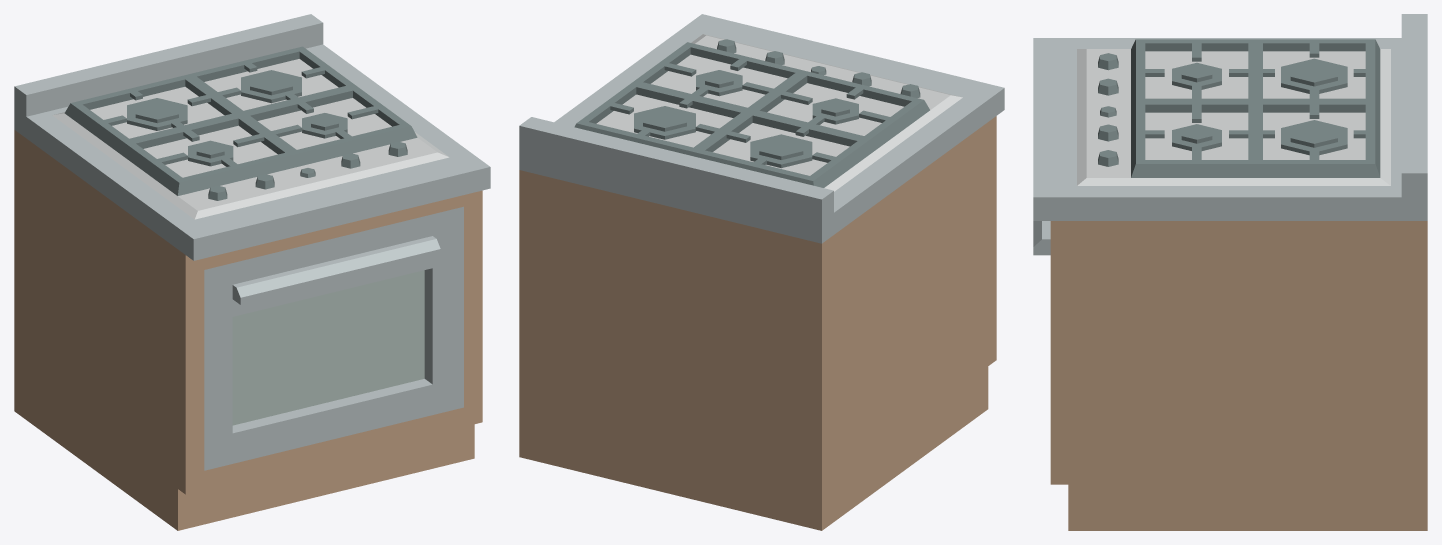
Rendered from kitchenStove.glb.
The picture shows the model from 3 angles, left to right: view 1: azimuth 30°, elevation 25°; view 2: azimuth 150°, elevation 25°; view 3: azimuth 270°, elevation 25°; orthographic projection. The views are drawn at different scales.
Visible parts, largest first — view 1: kitchenStove(Clone), door; view 2: kitchenStove(Clone); view 3: kitchenStove(Clone).
Part boxes in pixels (box(x1,y1,x2,y2)): kitchenStove(Clone): box(14, 14, 490, 530); door: box(232, 270, 424, 425); kitchenStove(Clone): box(519, 14, 1004, 530); kitchenStove(Clone): box(1033, 14, 1427, 530).
Size of the model in its own units: 0.43 by 0.45 by 0.45.
